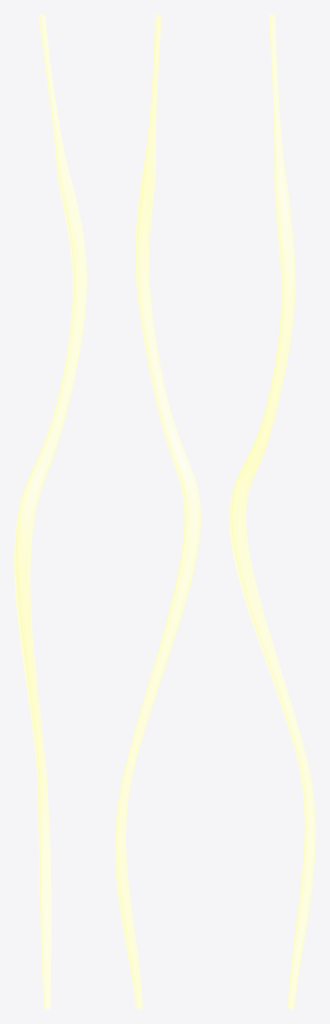
Rendered from strand_c_cairn.glb.
The picture shows the model from 3 angles, left to right: view 1: azimuth 30°, elevation 25°; view 2: azimuth 150°, elevation 25°; view 3: azimuth 330°, elevation 25°; orthographic projection.
Size of the model in its own units: 0.5659 by 8 by 0.5143.
